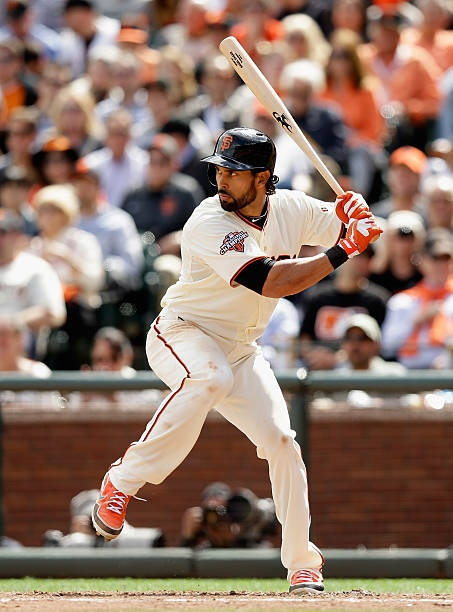bita: (220, 35, 352, 206)
